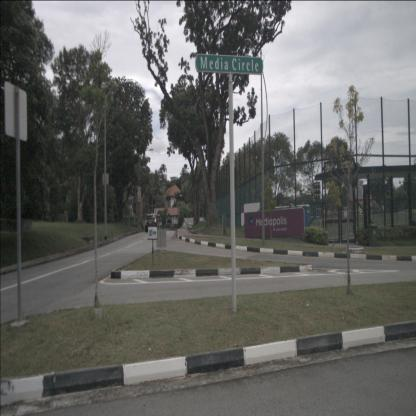vehicle-car: (145, 214, 159, 232)
